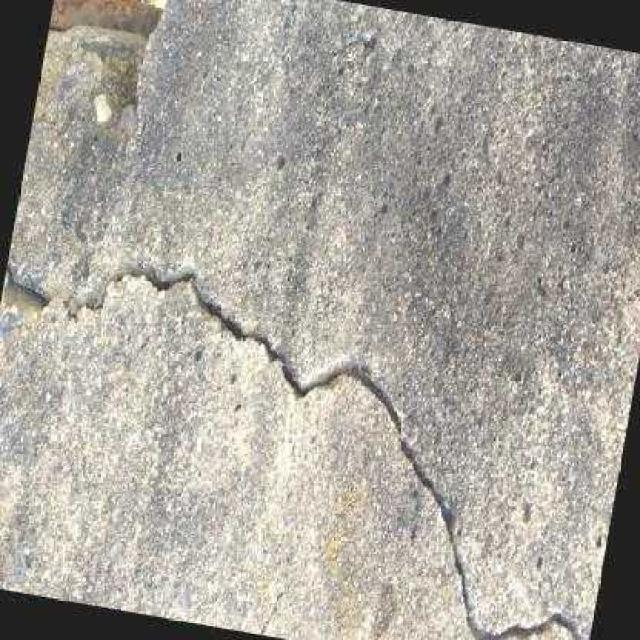D00: (5, 260, 580, 640)
